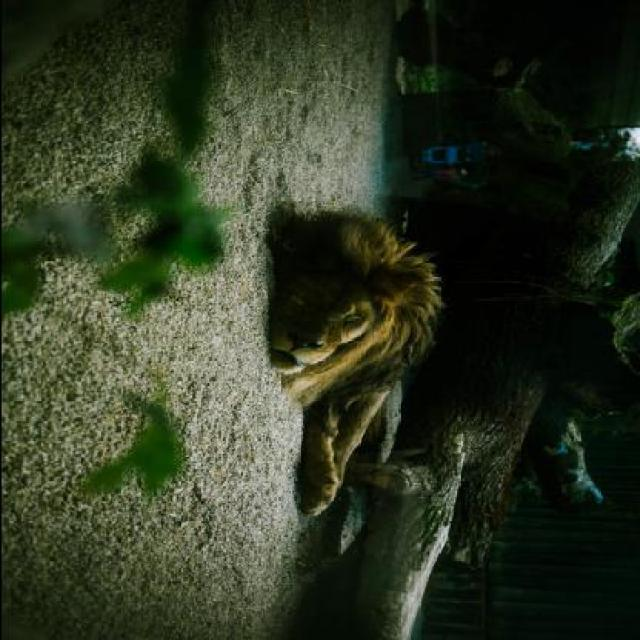Lion: (249, 196, 468, 530)
